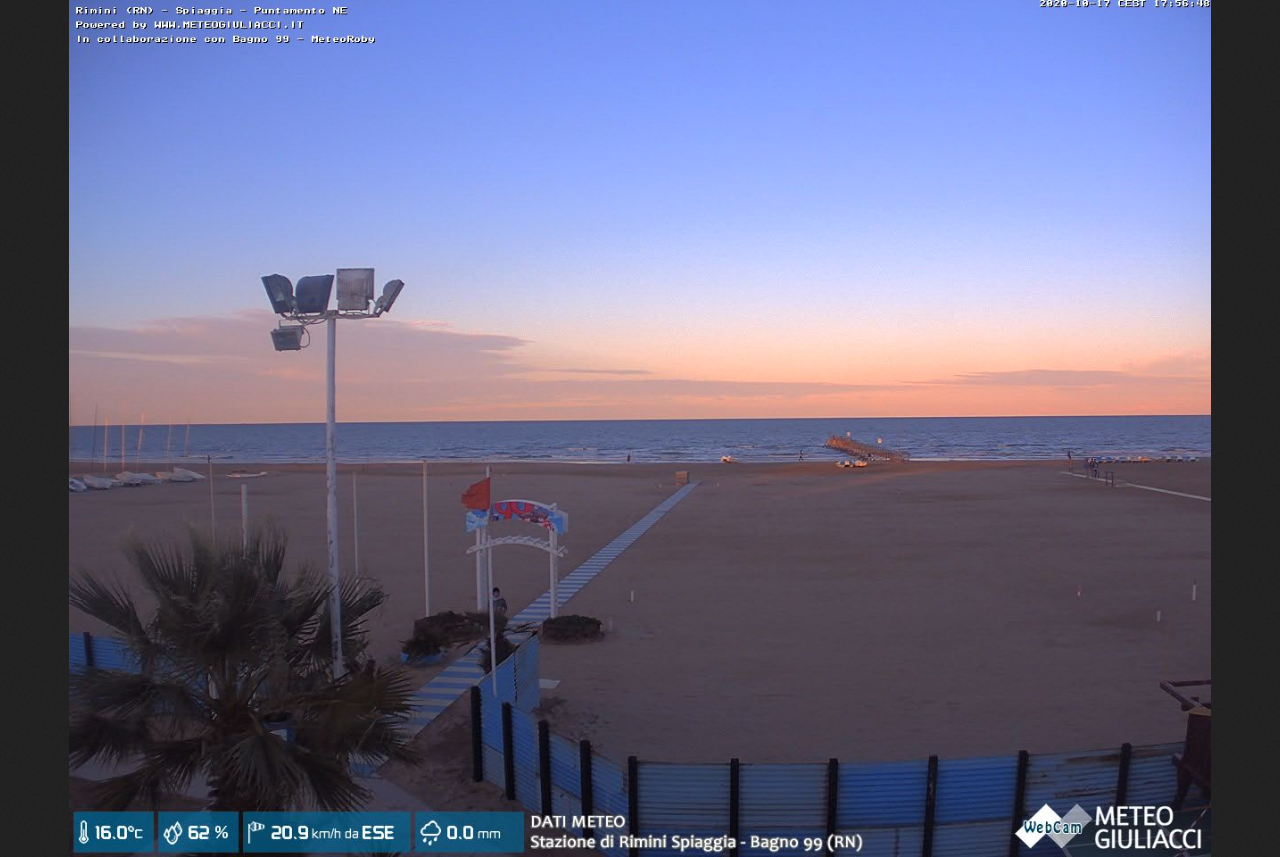yes: (458, 476, 494, 534)
